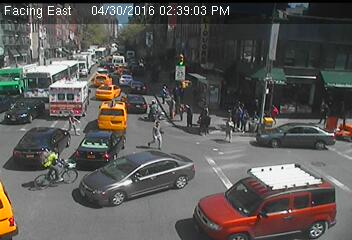neg: (34, 144, 68, 190), (148, 171, 181, 215), (277, 159, 304, 196), (17, 83, 43, 119), (104, 51, 128, 82), (313, 168, 336, 198), (64, 51, 84, 78), (146, 96, 165, 122), (162, 95, 180, 119), (242, 178, 260, 202), (196, 71, 213, 93), (265, 80, 281, 102), (243, 73, 258, 93)
pos: (193, 105, 216, 134), (148, 122, 168, 148), (64, 108, 83, 133), (180, 105, 198, 129), (224, 117, 239, 138), (316, 100, 331, 120), (268, 103, 282, 121), (247, 110, 260, 127), (240, 109, 252, 125)
